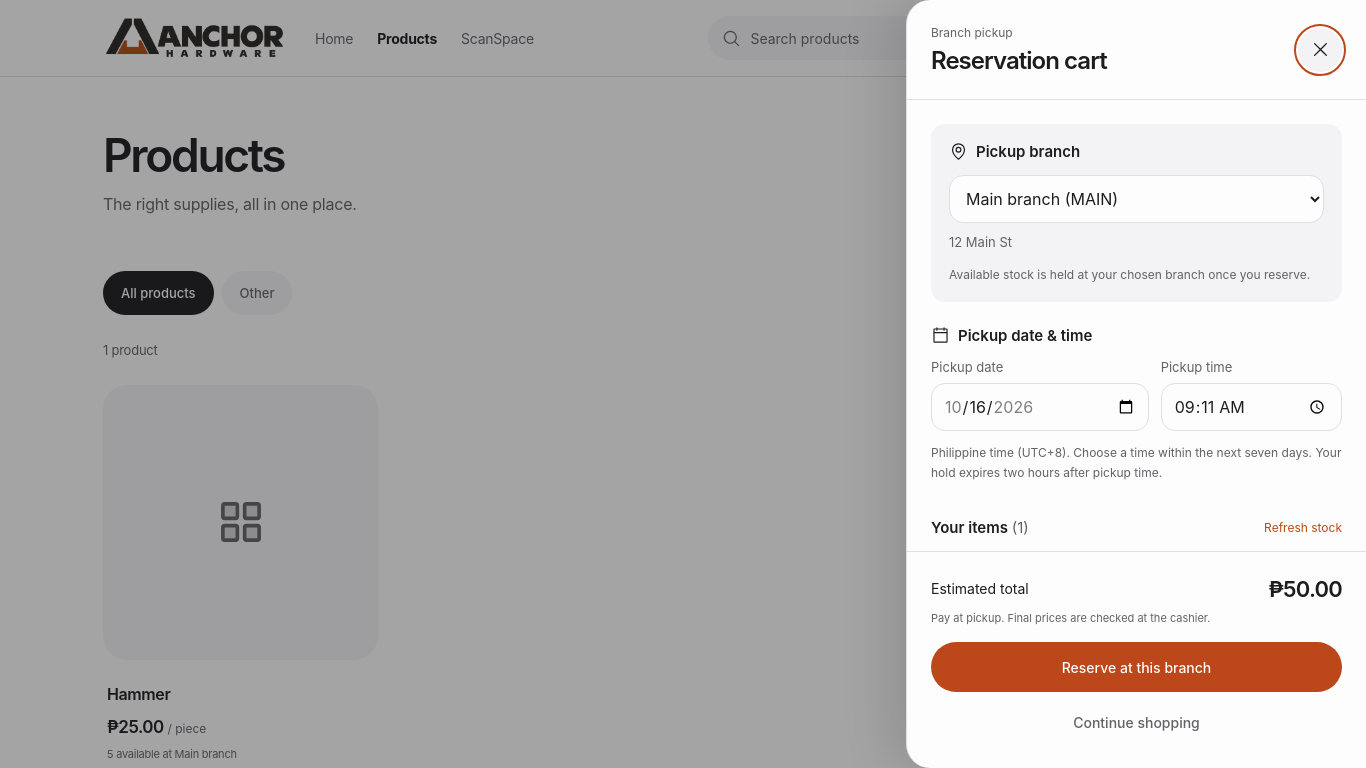
Test: a stock conflict retains the cart and refreshes availability
Click the button "Reserve at this branch" at x=1136, y=667, box x1=931 y1=642 x2=1342 y2=692
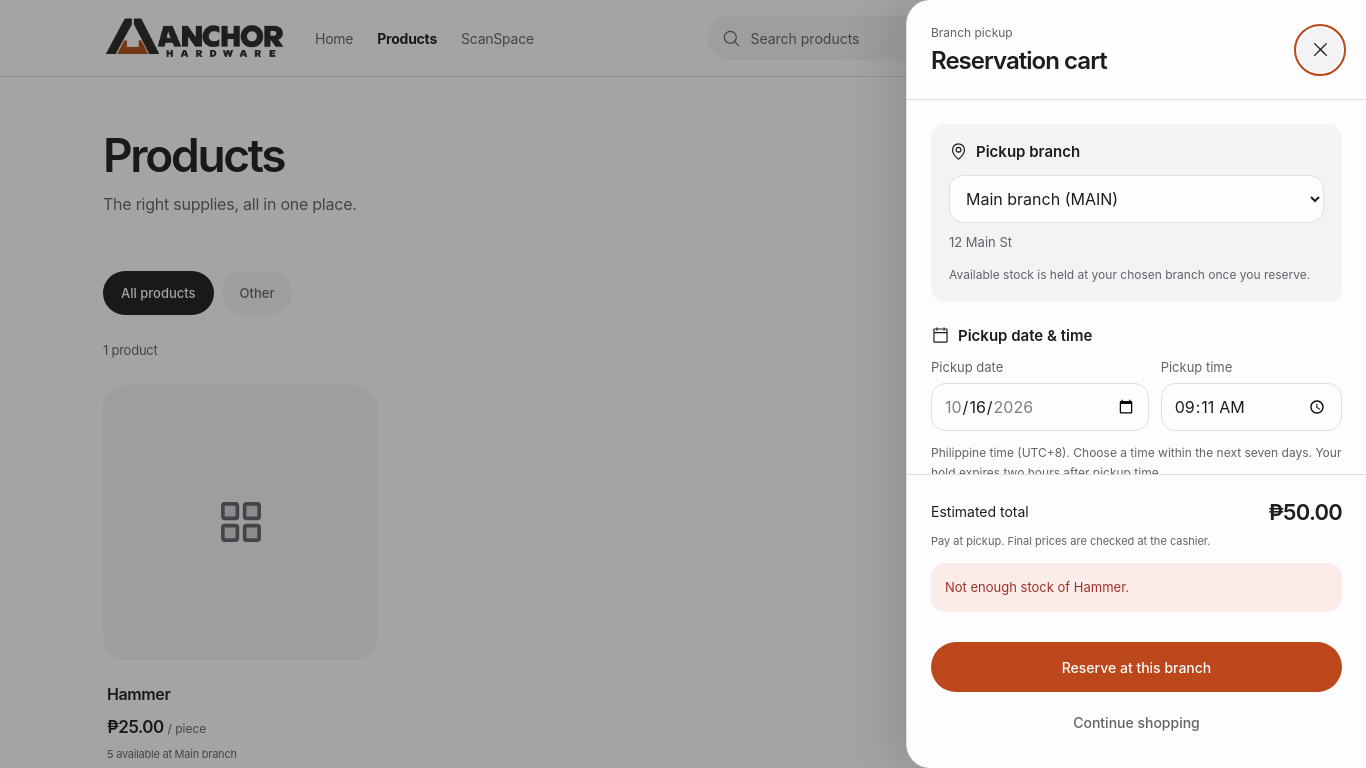
Check: the message shows "Not enough stock", box x1=945 y1=579 x2=1129 y2=595
